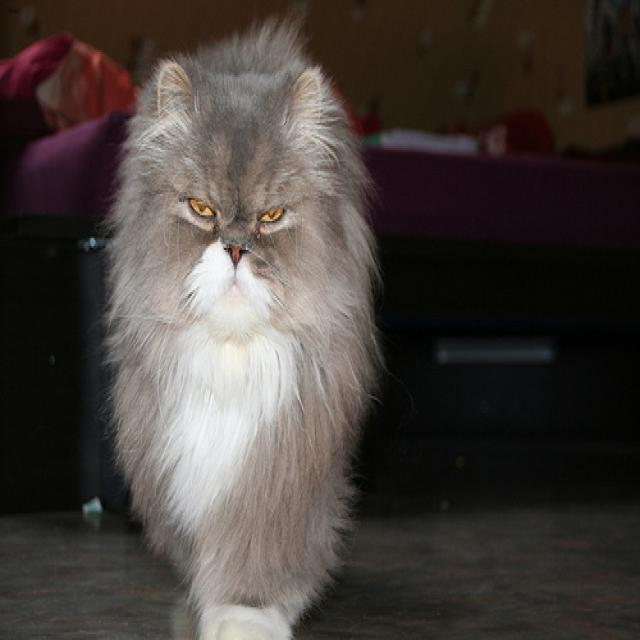Persian: (154, 60, 319, 327)
